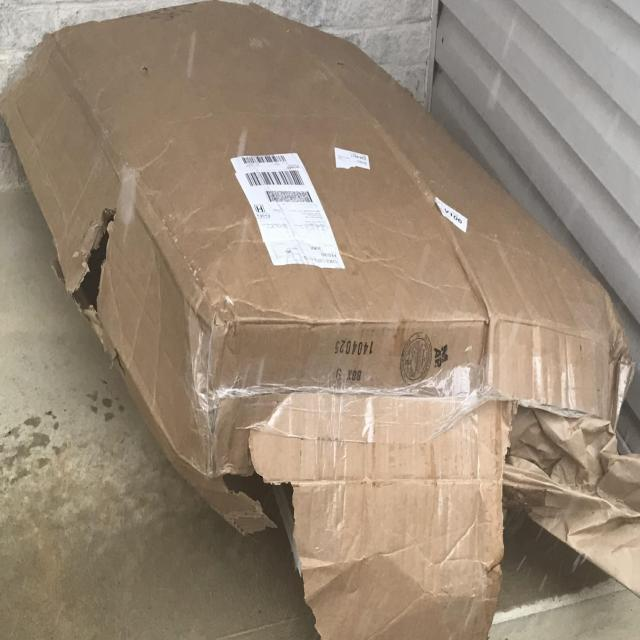hole: (189, 369, 627, 601), (63, 201, 119, 318)
